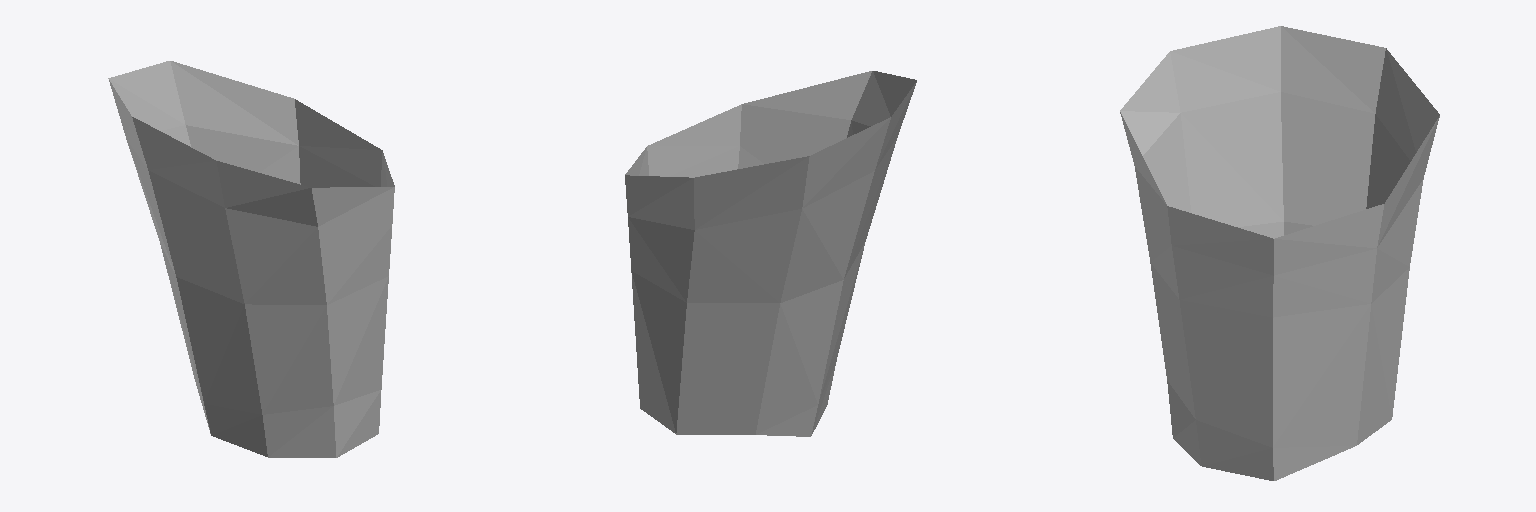
Rendered from up_legs_R.obj.
The picture shows the model from 3 angles: view 1: azimuth 30°, elevation 25°; view 2: azimuth 150°, elevation 25°; view 3: azimuth 270°, elevation 25°; orthographic projection.
Parts seen in each view (by area): view 1: KERORO; view 2: KERORO; view 3: KERORO.
Boxes of the visible parts, <box> form: KERORO: <box>108,61,394,457</box>; KERORO: <box>625,71,916,436</box>; KERORO: <box>1120,26,1439,480</box>.
Size of the model in its own units: 0.7791 by 1.02 by 0.8734.